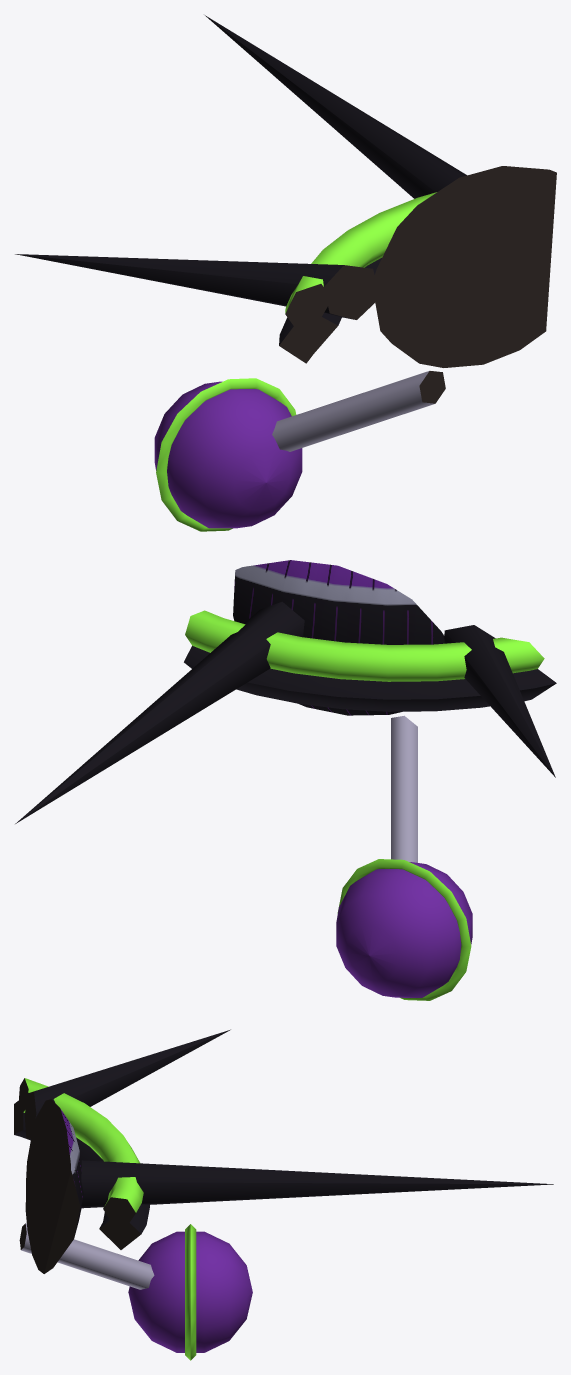
Rendered from dominion_outpost_debris1.obj.
The picture shows the model from 3 angles, top to bottom: view 1: azimuth 30°, elevation 25°; view 2: azimuth 150°, elevation 25°; view 3: azimuth 270°, elevation 25°; orthographic projection. The views are drawn at different scales.
Visible parts, largest first — view 1: hub, spike, pod, strut, glow_ring, pod_band, ring_frame; view 2: spike, pod, hub, glow_ring, ring_frame, strut, pod_band; view 3: spike, pod, hub, glow_ring, strut, ring_frame, pod_band.
Boxes of the visible parts, x1=… form: hub: x1=372, y1=166, x2=556, y2=367; spike: x1=15, y1=15, x2=466, y2=319; pod: x1=154, y1=381, x2=302, y2=528; strut: x1=272, y1=371, x2=445, y2=451; glow_ring: x1=285, y1=192, x2=436, y2=328; pod_band: x1=156, y1=378, x2=296, y2=531; ring_frame: x1=279, y1=258, x2=381, y2=363; spike: x1=15, y1=601, x2=555, y2=823; pod: x1=336, y1=862, x2=472, y2=997; hub: x1=233, y1=560, x2=444, y2=715; glow_ring: x1=185, y1=610, x2=544, y2=681; ring_frame: x1=184, y1=645, x2=556, y2=711; strut: x1=391, y1=715, x2=417, y2=862; pod_band: x1=337, y1=859, x2=471, y2=1000; spike: x1=24, y1=1029, x2=553, y2=1208; pod: x1=128, y1=1231, x2=252, y2=1352; hub: x1=25, y1=1099, x2=83, y2=1273; glow_ring: x1=18, y1=1078, x2=143, y2=1224; strut: x1=19, y1=1223, x2=154, y2=1289; ring_frame: x1=14, y1=1097, x2=149, y2=1249; pod_band: x1=185, y1=1224, x2=196, y2=1360.
Size of the model in its own units: 62.88 by 48.93 by 78.48.
Materials: 6 (1 with a texture image).
